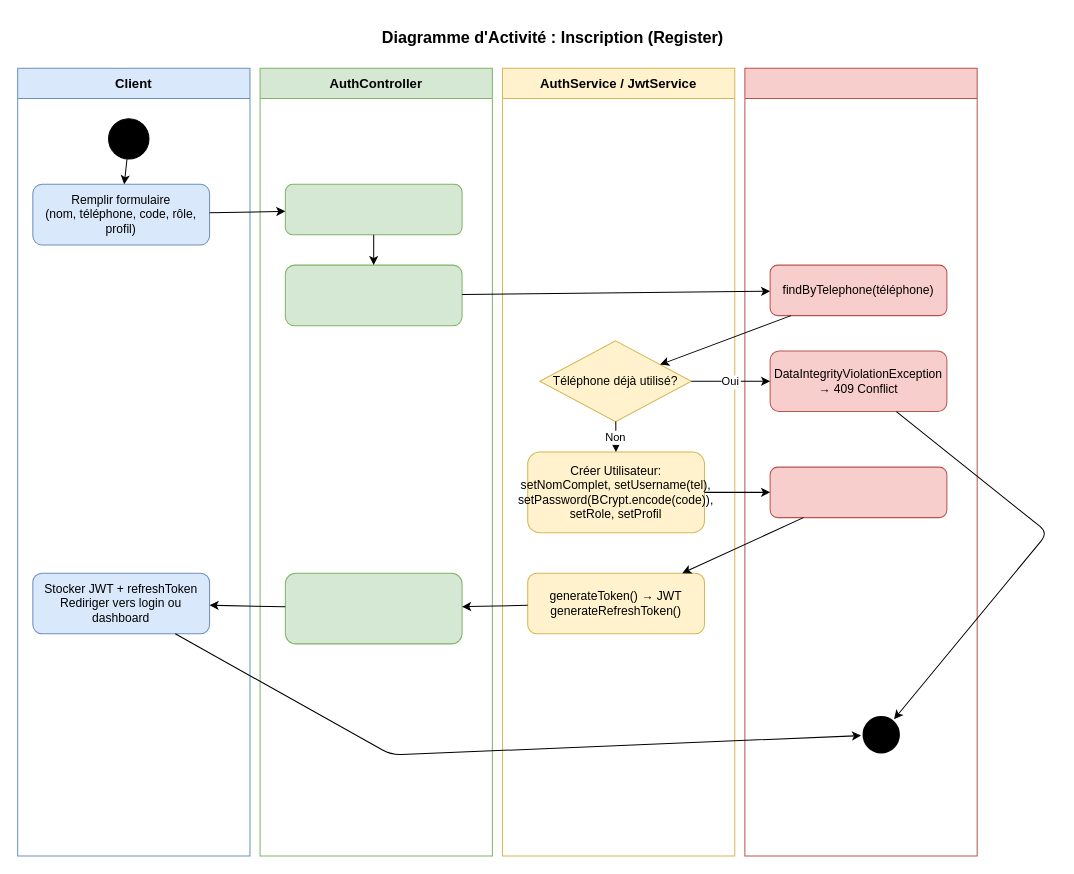
This 1074x874 diagram has some shape labels left out. Here are the shapes that lost their labels. From the top down, the box of each, then its label:
(284, 183, 462, 235): POST /api/auth/register
(284, 264, 462, 326): Route publique — authService.register(request)
(744, 67, 977, 856): Base de Données
(769, 466, 947, 518): utilisateurRepository.save(newUser)
(284, 572, 462, 644): Retourner AuthResponse (uuid, token, refreshToken, role, profil)
